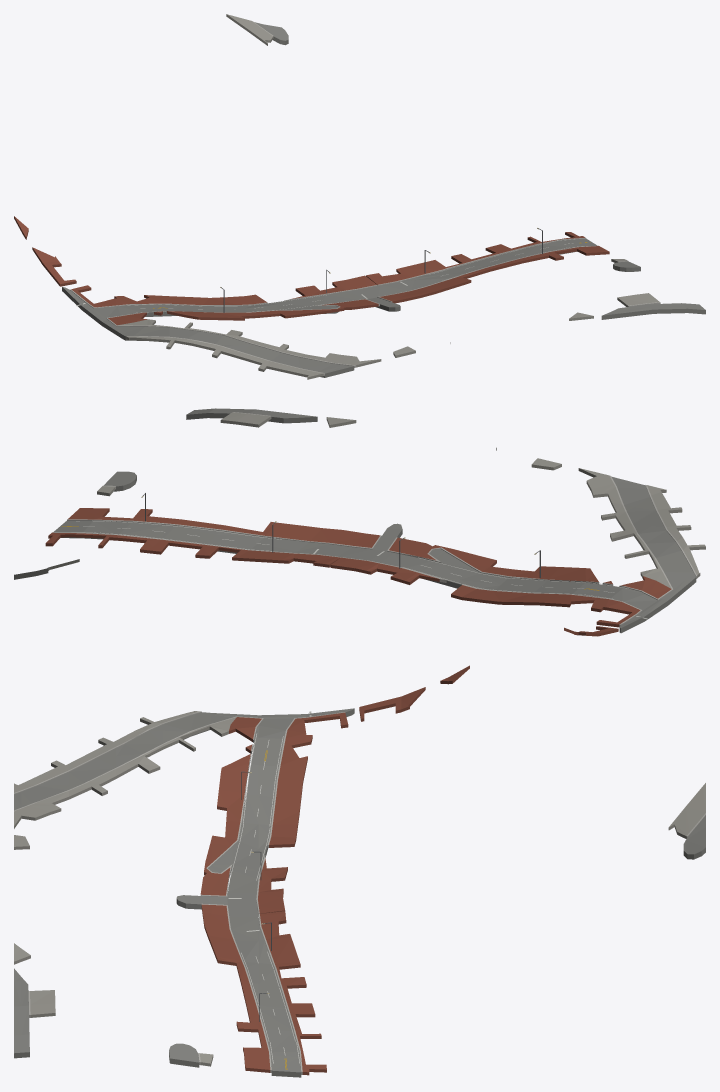
Rendered from 18-218879-118942.7faf3720.glb.
3 renders of one model, top to bottom at view 1: azimuth 30°, elevation 25°; view 2: azimuth 150°, elevation 25°; view 3: azimuth 270°, elevation 25°, orthographic. The views are drawn at different scales.
Size of the model in its own units: 148 by 42.52 by 146.
